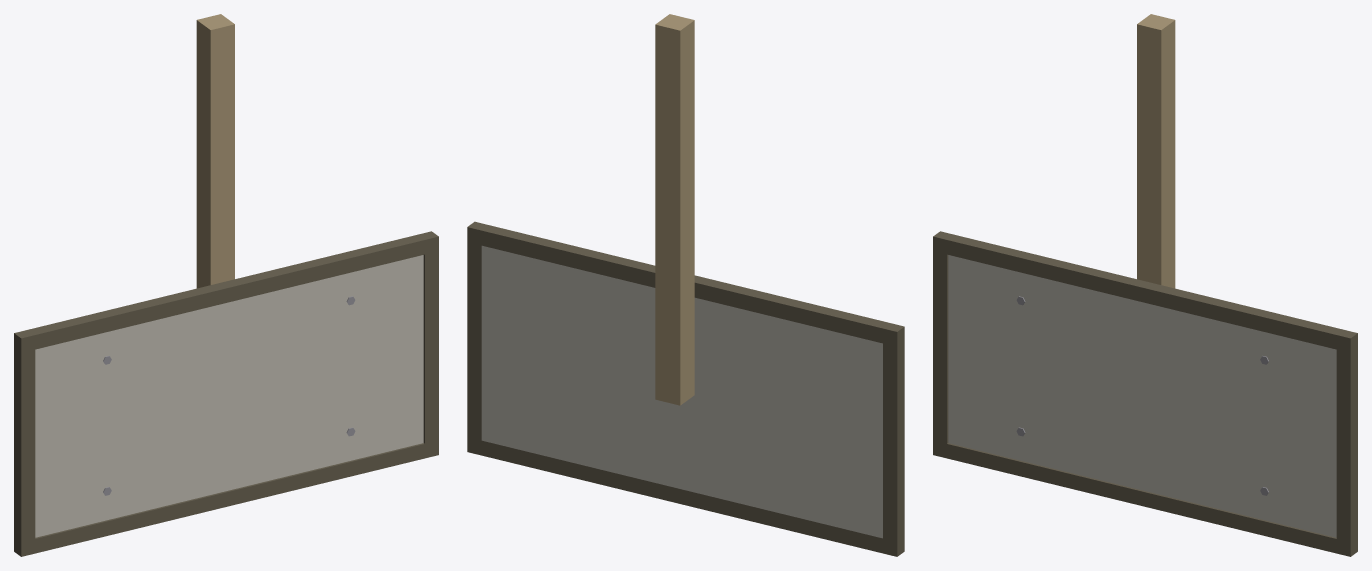
The model's file is distance_board.glb.
The picture shows the model from 3 angles, left to right: view 1: azimuth 30°, elevation 25°; view 2: azimuth 150°, elevation 25°; view 3: azimuth 330°, elevation 25°; orthographic projection. The views are drawn at different scales.
Visible parts, largest first — view 1: Board, Post; view 2: Board, Post; view 3: Board, Post.
Part boxes in pixels (<box>): Board: <box>14,231,438,556</box>; Post: <box>196,14,234,288</box>; Board: <box>467,221,904,556</box>; Post: <box>655,14,694,405</box>; Board: <box>933,231,1357,556</box>; Post: <box>1137,14,1175,288</box>.
Size of the model in its own units: 1.2 by 1.3 by 0.106.
